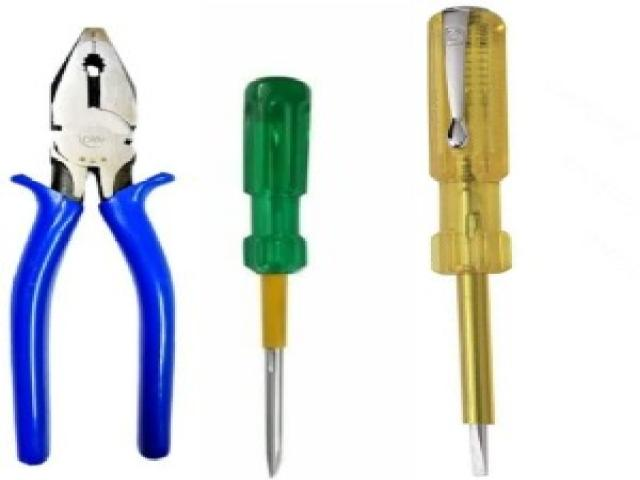Pliers: (12, 28, 174, 464)
Screwdriver: (429, 8, 511, 474), (244, 77, 311, 476)
